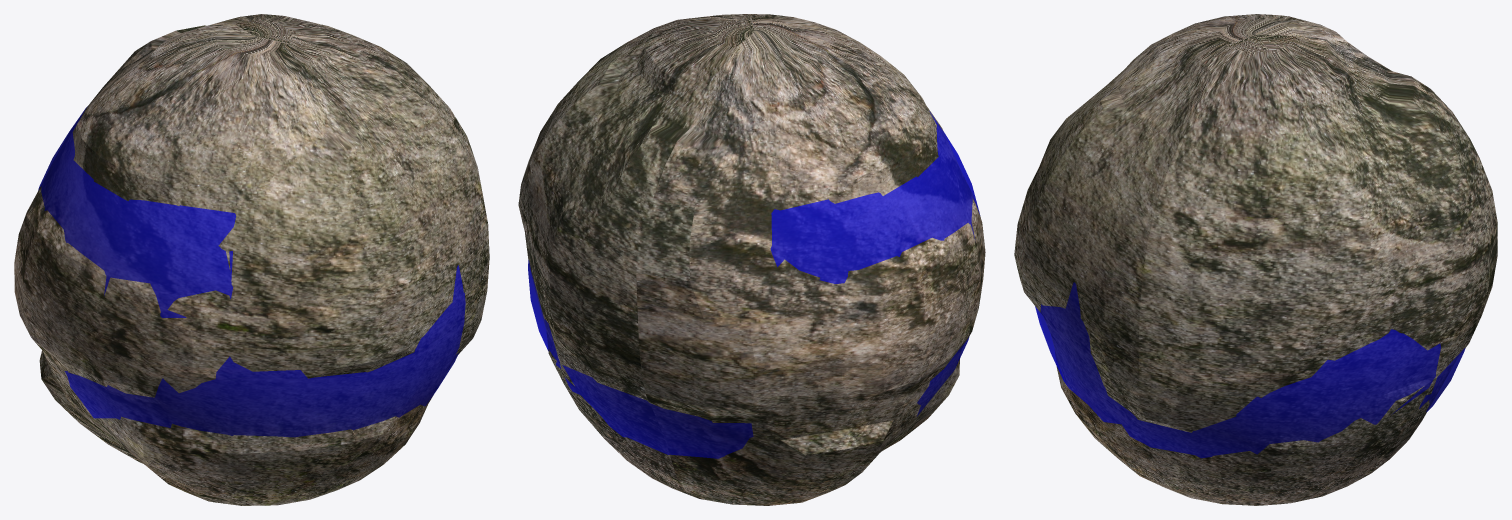
The model's file is BlueRock.fbx.
3 views of the same model, side by side, from view 1: azimuth 30°, elevation 25°; view 2: azimuth 150°, elevation 25°; view 3: azimuth 270°, elevation 25° (orthographic).
Visible parts, largest first — view 1: polySurface1; view 2: polySurface1; view 3: polySurface1.
Boxes of the visible parts, left/top/right/bottom form: polySurface1: left=14, top=14, right=489, bottom=505; polySurface1: left=518, top=14, right=985, bottom=505; polySurface1: left=1014, top=14, right=1497, bottom=505.
Size of the model in its own units: 1.76 by 1.85 by 1.81.
Materials: 2 (1 with a texture image).
